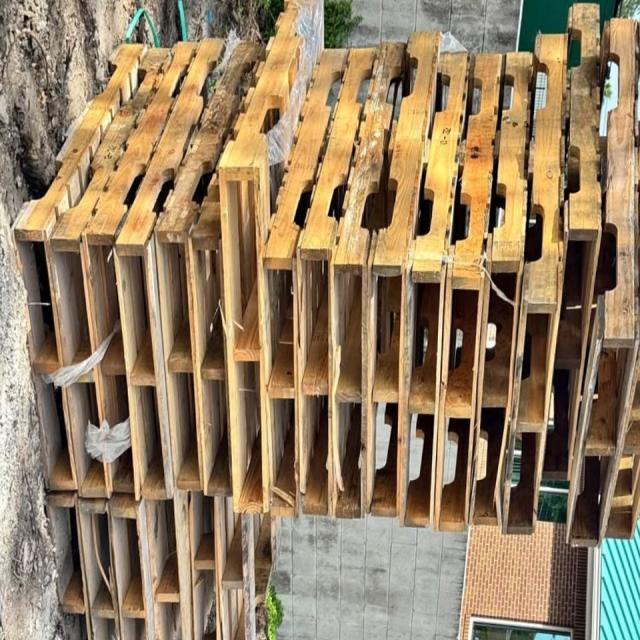non-igps: (6, 28, 160, 503), (44, 35, 181, 508), (212, 0, 332, 528), (76, 31, 208, 506), (107, 29, 235, 511), (149, 30, 279, 502), (346, 24, 451, 525), (256, 35, 360, 529), (383, 37, 486, 535), (284, 38, 387, 522), (489, 17, 582, 546), (291, 33, 390, 523), (423, 42, 518, 540), (320, 34, 416, 526), (179, 29, 276, 505), (524, 0, 608, 532), (454, 40, 543, 531), (559, 11, 639, 556), (597, 10, 639, 546), (142, 472, 198, 640), (42, 483, 95, 640), (75, 490, 123, 640), (106, 494, 154, 640), (183, 481, 222, 640), (246, 489, 284, 640), (214, 487, 248, 640)
